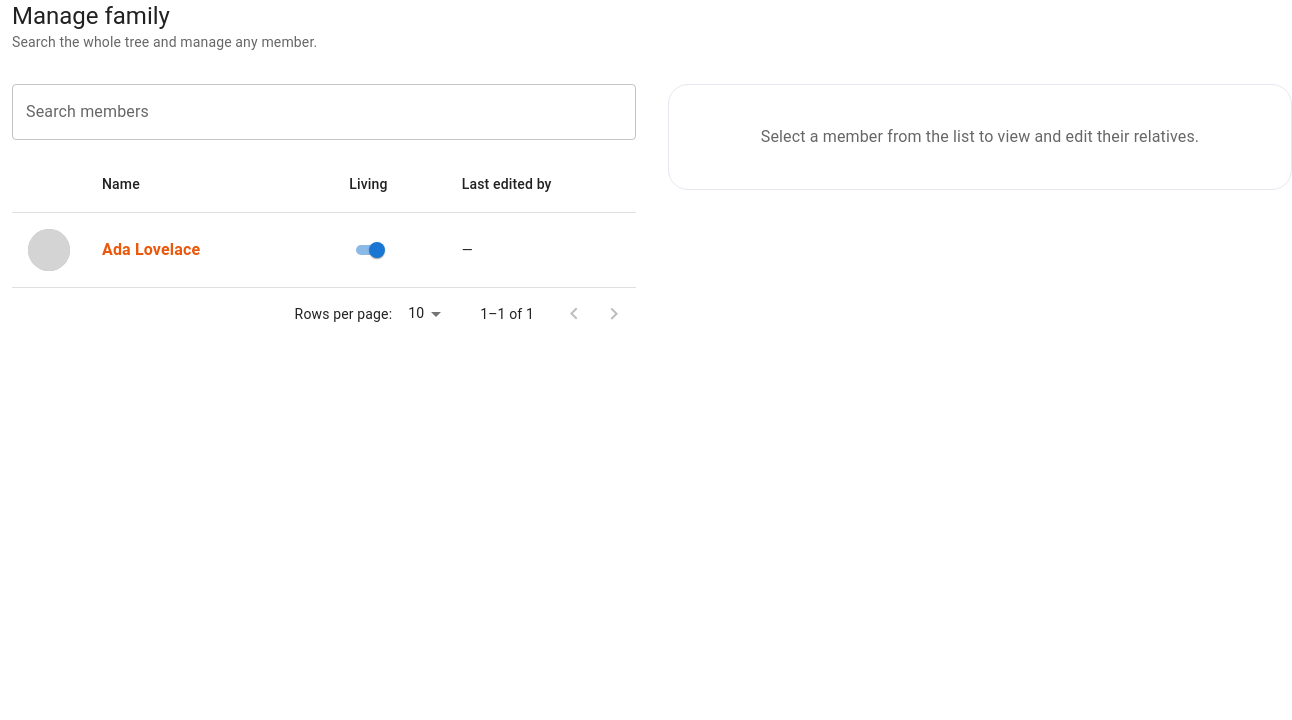
it: ManagePage (admin branch) › selecting a row fetches familyMember(id) and renders the grouped panel via the shared groupByRelation helper
Click the text "Ada Lovelace" at (151, 250), box [102,240,200,259]
(page scrolled)
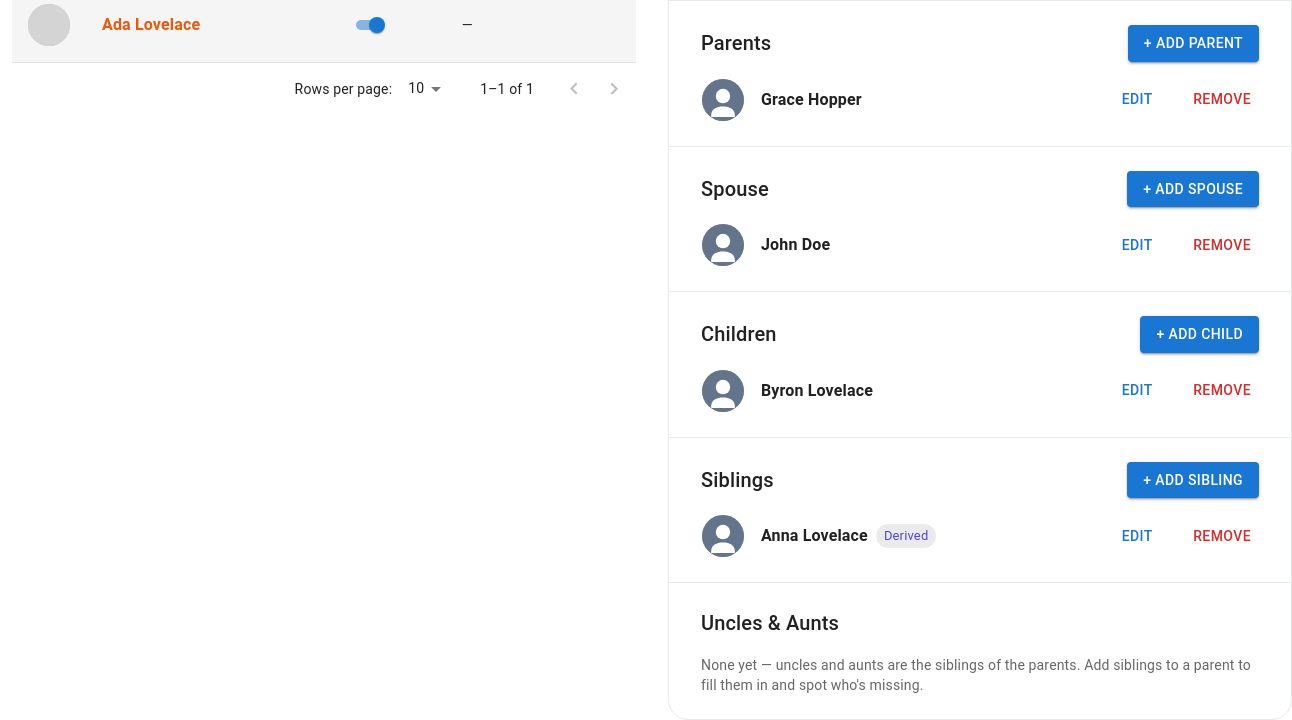
Result: the text "Grace Hopper" is shown at [761,88,862,112]
Result: the text "John Doe" is shown at [761,233,830,257]
Result: the text "Byron Lovelace" is shown at [761,378,873,402]
